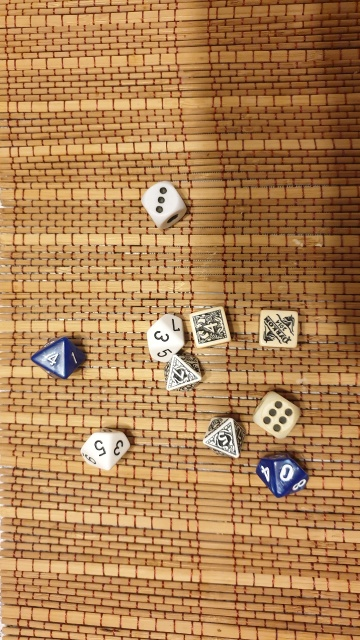d10-10: (255, 449, 313, 505)
d10-3: (142, 307, 187, 366)
d10-4: (30, 331, 85, 387)
d10-5: (77, 424, 132, 473)
d6-3: (140, 179, 188, 230)
d6-6: (248, 388, 303, 444)
d6p-1: (256, 309, 302, 350)
d6p-4: (187, 309, 234, 348)
d8p-5: (200, 414, 250, 464)
d8p-7: (161, 352, 208, 396)
